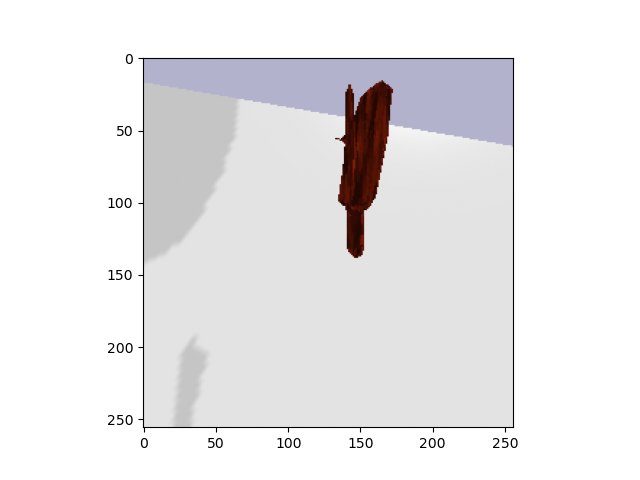v249b387_107: (327, 78, 406, 265)
